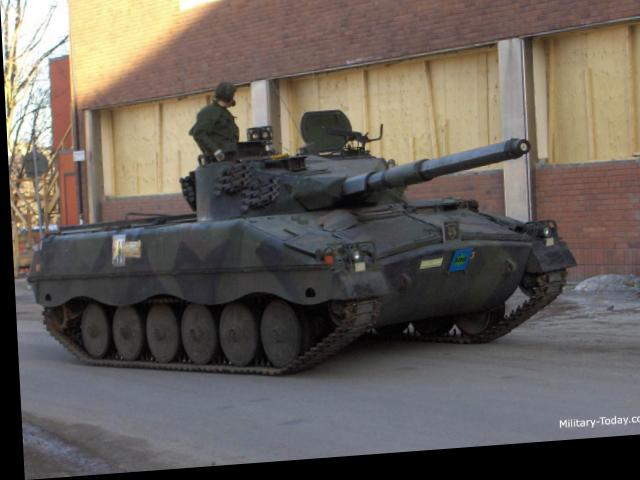other: (168, 68, 249, 176)
tank: (31, 127, 562, 376)
